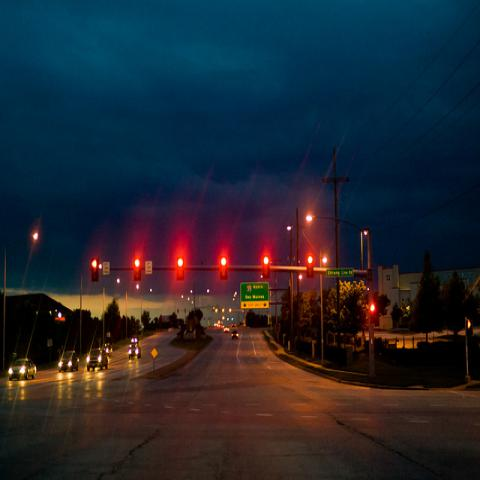car: (8, 358, 37, 380), (86, 347, 108, 371), (58, 351, 80, 372), (128, 342, 142, 359), (101, 344, 113, 358), (231, 330, 239, 340), (130, 337, 138, 345), (223, 326, 230, 332), (239, 322, 244, 329), (231, 323, 236, 327), (220, 324, 224, 328), (217, 324, 220, 327)
